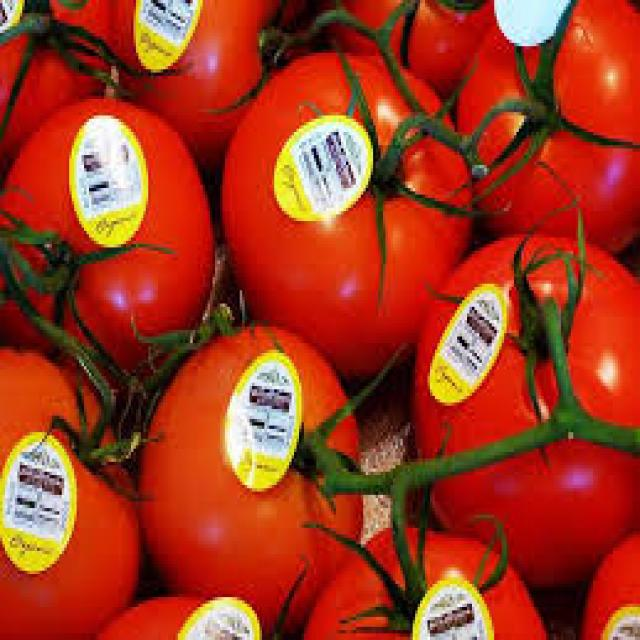organic waste: (222, 49, 474, 380), (405, 228, 638, 584), (136, 316, 363, 614), (0, 92, 213, 386), (457, 3, 635, 251), (0, 343, 141, 630), (116, 0, 309, 162), (296, 521, 544, 637), (324, 0, 496, 99), (0, 0, 113, 148), (79, 587, 264, 637), (578, 521, 638, 637)
